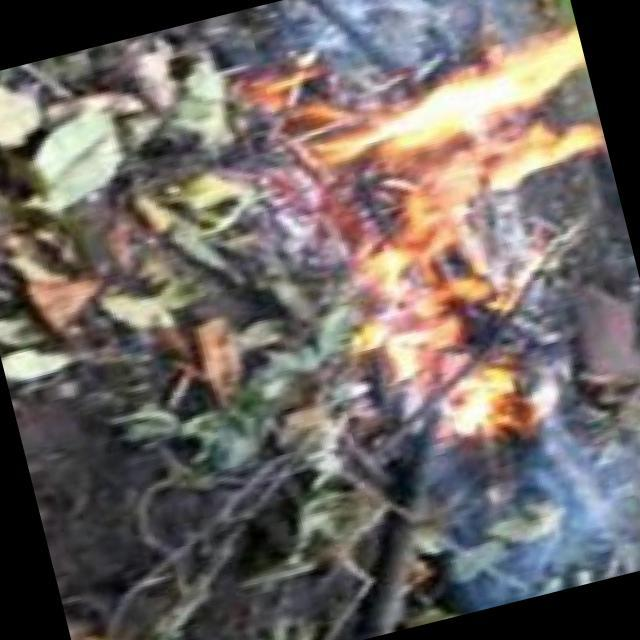Fire: (296, 12, 612, 235), (332, 128, 527, 441)
